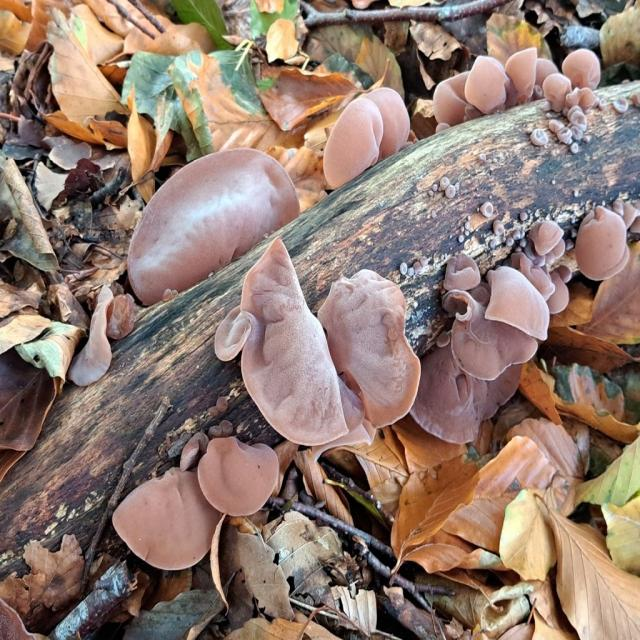Fase Muda: (485, 266, 551, 342), (464, 48, 538, 112), (432, 70, 480, 122), (511, 250, 556, 300), (445, 239, 482, 296), (523, 218, 571, 254), (562, 48, 601, 91), (541, 72, 572, 116), (546, 263, 572, 315), (178, 430, 209, 471), (536, 56, 560, 98), (566, 87, 598, 111)
Matang: (214, 233, 353, 444), (130, 152, 308, 302), (313, 266, 423, 430), (408, 317, 523, 446), (113, 466, 227, 570), (442, 279, 540, 382), (321, 85, 409, 182), (65, 286, 138, 383), (203, 436, 284, 515), (577, 208, 630, 280)
primordia: (530, 128, 549, 146), (571, 111, 587, 132), (614, 96, 630, 113), (479, 201, 494, 217), (435, 122, 452, 136), (558, 127, 571, 145), (548, 118, 563, 133), (219, 420, 234, 435), (570, 126, 583, 141), (162, 288, 178, 300), (216, 396, 228, 412), (439, 176, 451, 190), (413, 260, 423, 276), (209, 425, 222, 437), (445, 184, 456, 198), (493, 220, 504, 234), (419, 255, 429, 267), (504, 236, 514, 248), (488, 238, 498, 250), (565, 238, 574, 251), (512, 228, 520, 241), (399, 262, 407, 274), (598, 98, 606, 110), (478, 154, 487, 164), (464, 220, 472, 231), (408, 266, 415, 278), (570, 142, 578, 152), (520, 212, 528, 221), (571, 227, 577, 239), (458, 234, 464, 243), (432, 183, 438, 191), (429, 190, 434, 197), (467, 214, 471, 222), (460, 226, 465, 232), (465, 231, 470, 237)
